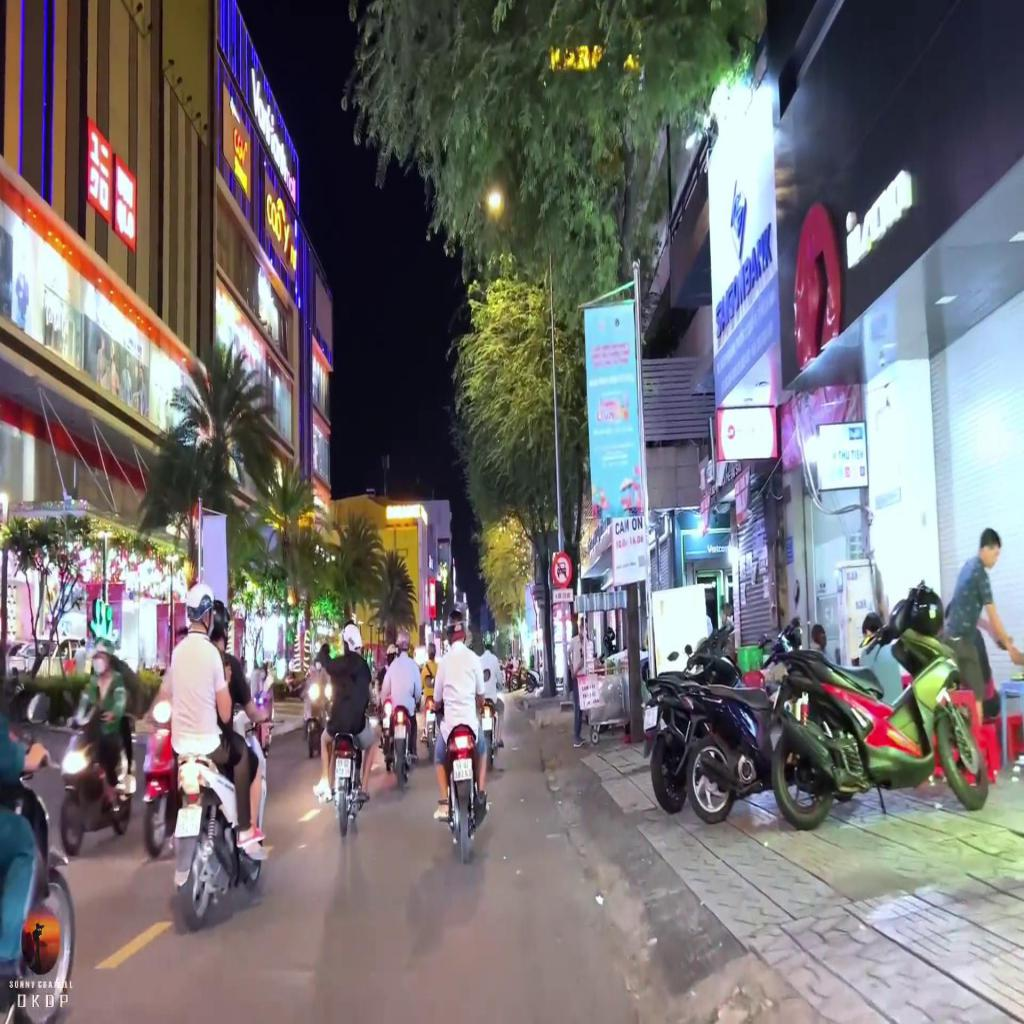cam_o_to: (551, 548, 572, 591)
khac: (552, 588, 573, 604)
